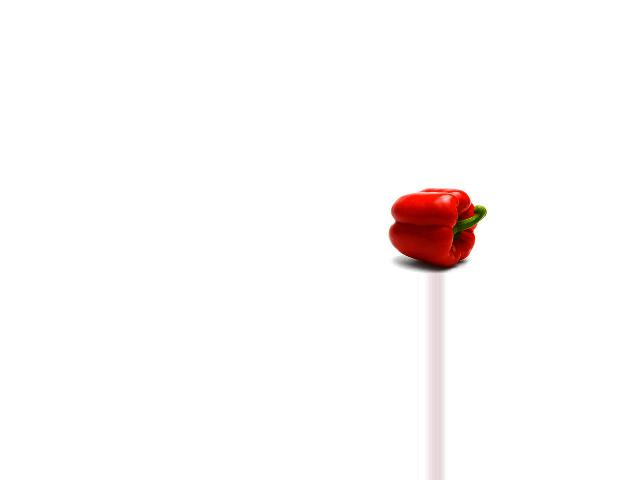bell_pepper: (380, 188, 492, 265)
